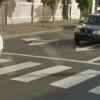Crosswalk: (7, 54, 99, 93)
